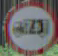Heavy Vehicles: (6, 4, 50, 48)
